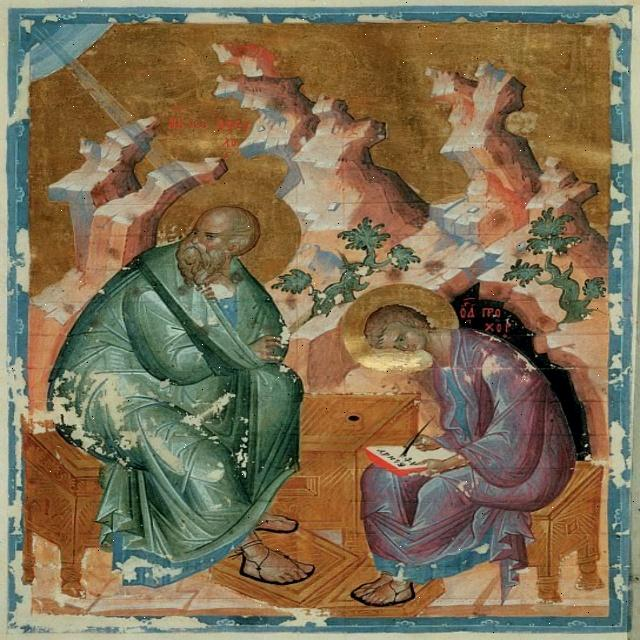aura: (155, 182, 302, 285), (340, 283, 460, 374)
book: (356, 440, 466, 474)
feather: (396, 411, 436, 457)
saint: (46, 178, 321, 591), (340, 285, 588, 608)
